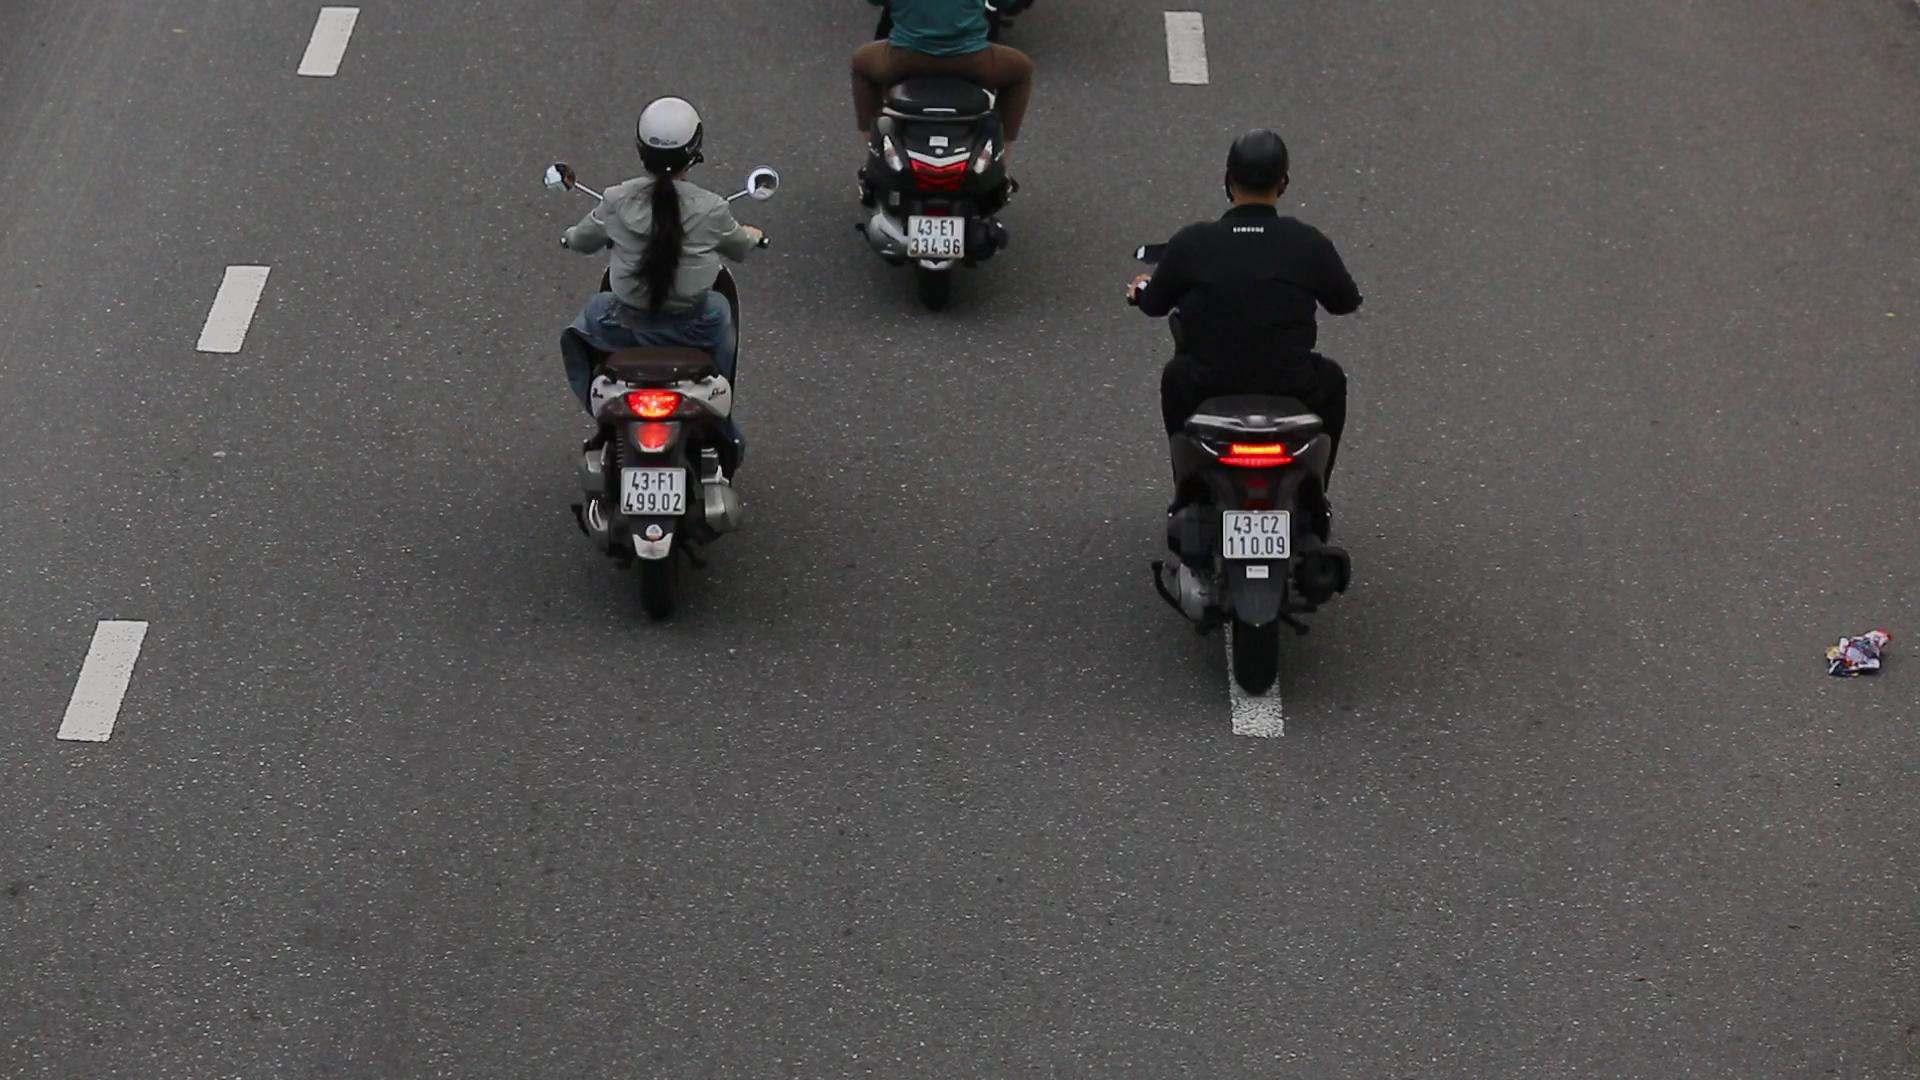motobike: (1106, 90, 1410, 687), (541, 79, 816, 624)
